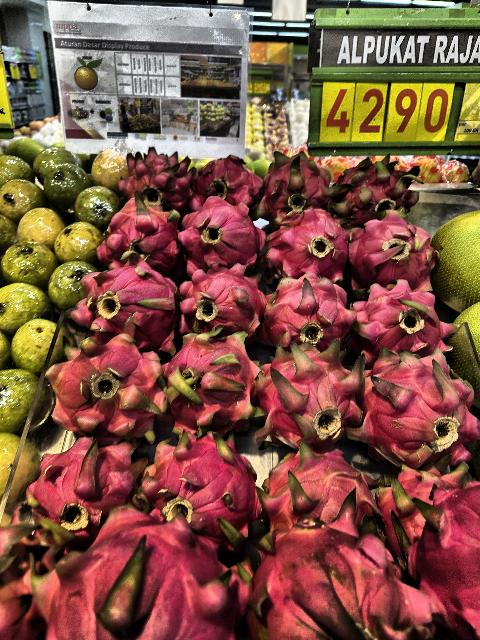buah-naga-belum-matang: (43, 336, 165, 439)
buah-naga-matang: (219, 514, 435, 640), (47, 512, 232, 640), (362, 352, 478, 462), (136, 438, 260, 536), (246, 342, 363, 444), (160, 333, 258, 433), (22, 436, 124, 528), (256, 453, 368, 532), (73, 264, 170, 346), (346, 276, 450, 352), (372, 462, 476, 538), (258, 206, 354, 284), (259, 272, 357, 346), (178, 198, 268, 274), (346, 212, 436, 288), (325, 150, 417, 220), (172, 267, 264, 333), (120, 151, 200, 217), (102, 197, 174, 270), (252, 150, 330, 217), (188, 152, 262, 210)
